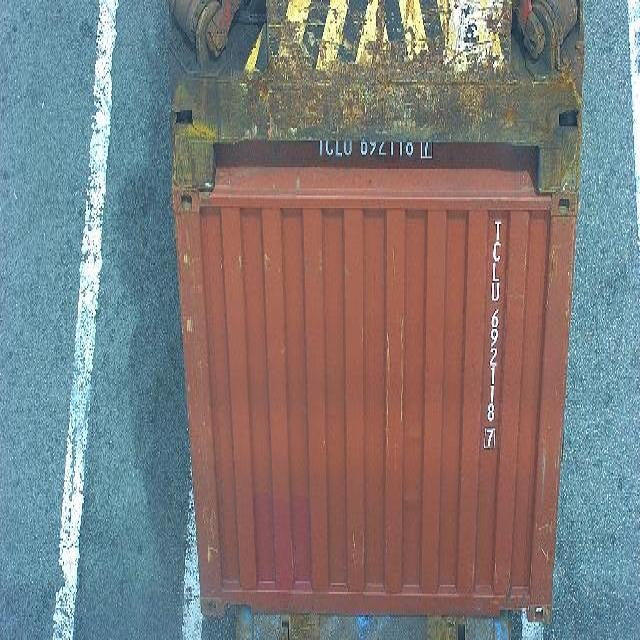container_number: (483, 193, 503, 454)
